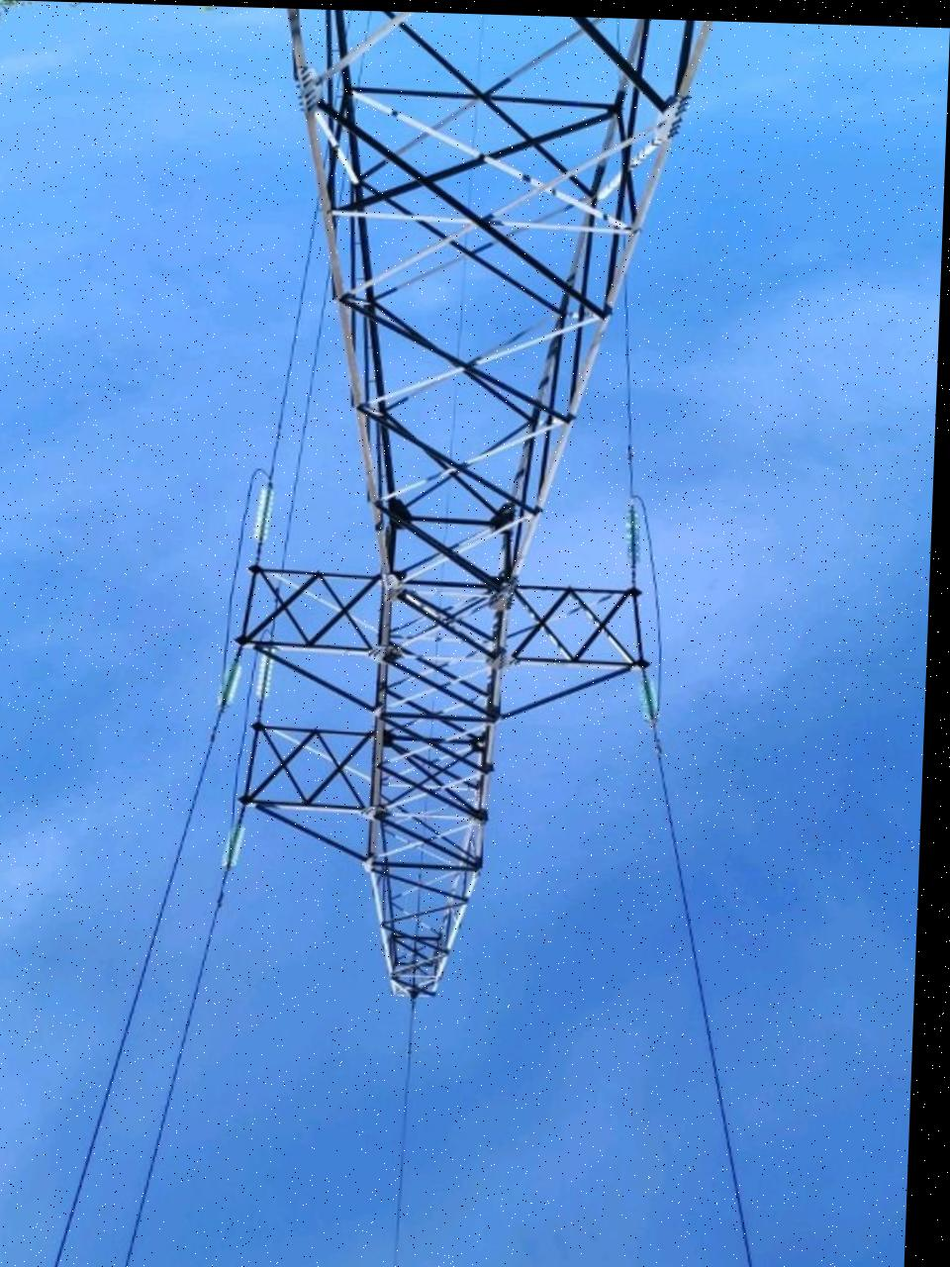tower: (171, 19, 765, 1033)
